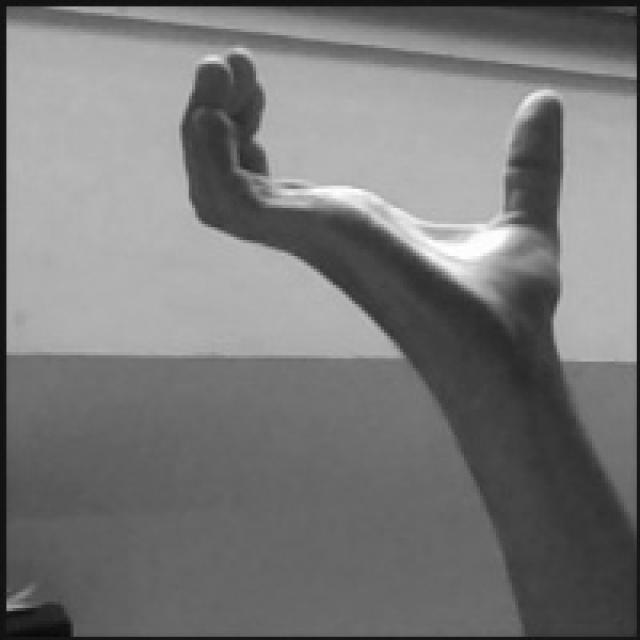space: (182, 49, 565, 320)
